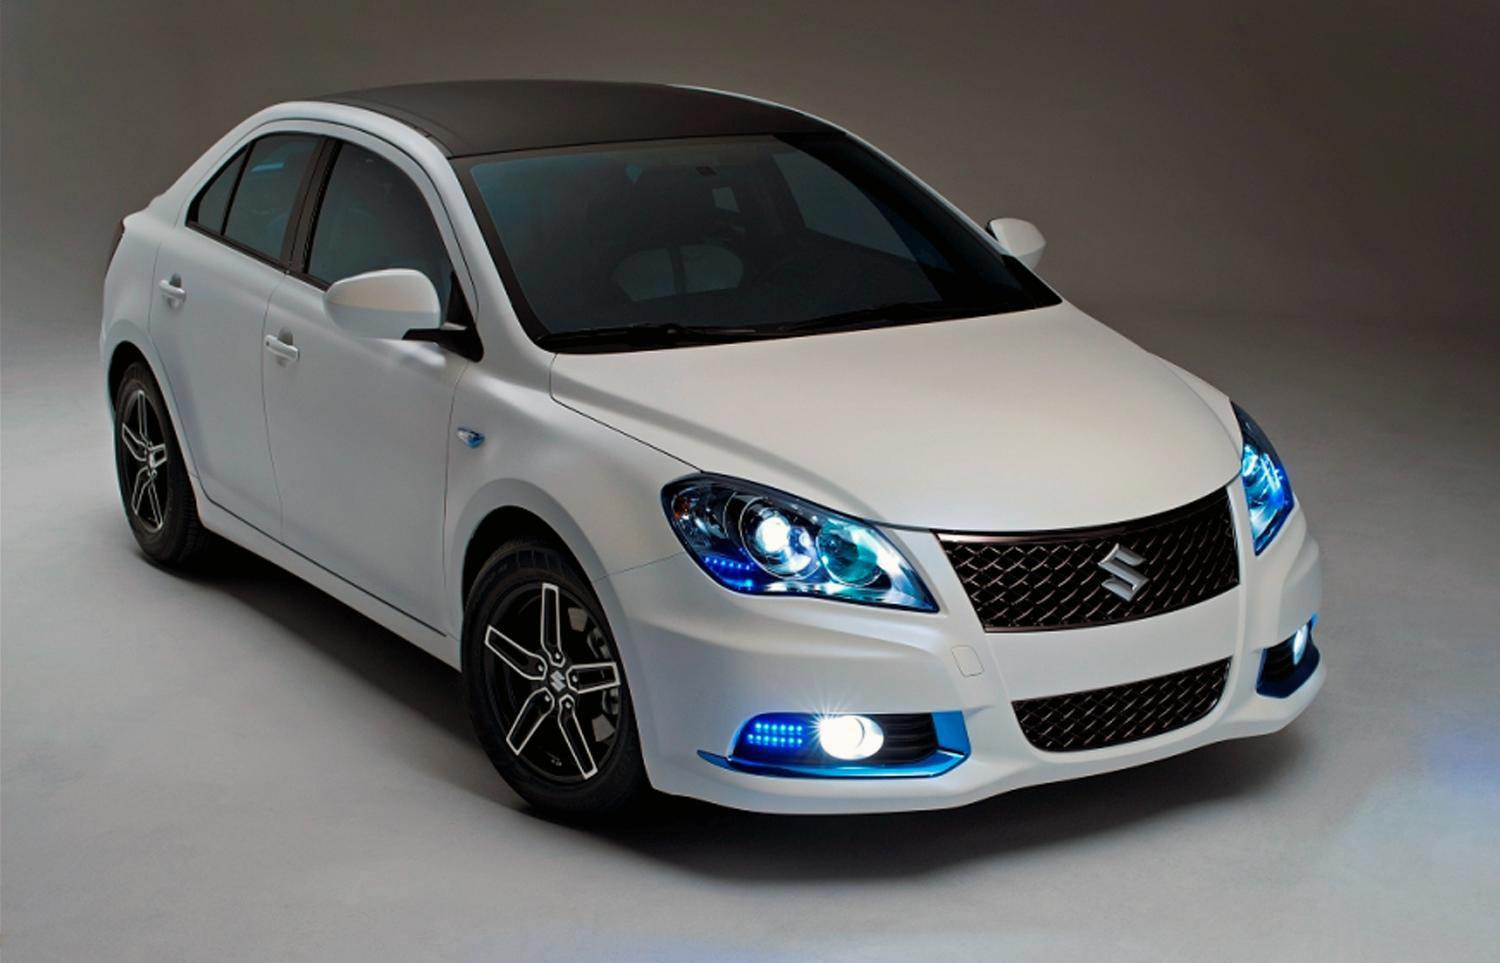suzuki: (1087, 537, 1158, 610)
